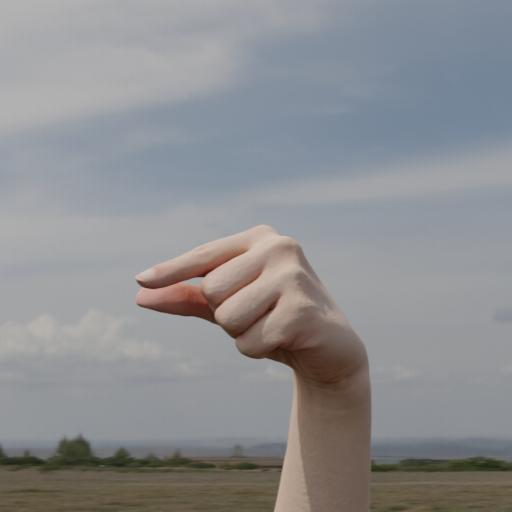G: (132, 221, 373, 383)
